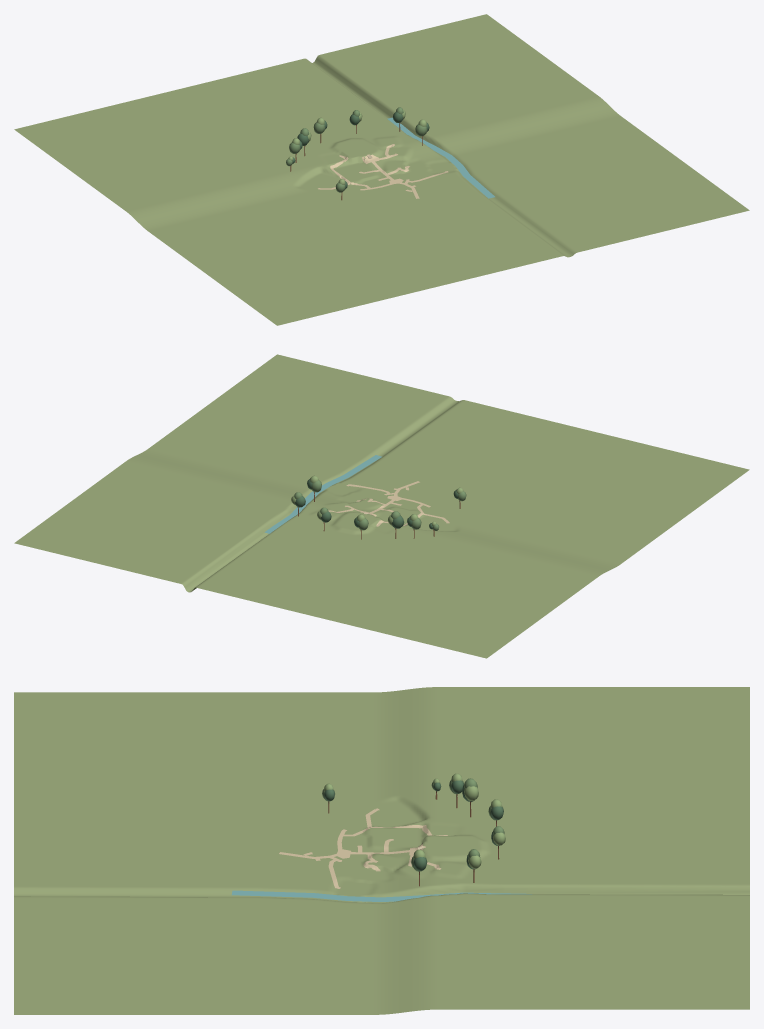
The model's file is town_environment.glb.
3 views of the same model, one above another, from view 1: azimuth 30°, elevation 25°; view 2: azimuth 150°, elevation 25°; view 3: azimuth 270°, elevation 25° (orthographic). The views are drawn at different scales.
Visible parts, largest first — view 1: Environment - Grass, Environment - Path.002, Environment - Water, Environment - Leaf; view 2: Environment - Grass, Environment - Path.002, Environment - Water, Environment - Leaf; view 3: Environment - Grass, Environment - Path.002, Environment - Water, Environment - Leaf light, Environment - Leaf dark.
Part boxes in pixels (box(x1,y1,x2,y2)): Environment - Grass: box(14, 14, 749, 325); Environment - Path.002: box(318, 144, 448, 198); Environment - Water: box(387, 117, 494, 198); Environment - Leaf: box(286, 107, 427, 192); Environment - Grass: box(14, 354, 749, 658); Environment - Path.002: box(328, 481, 449, 526); Environment - Water: box(264, 455, 381, 533); Environment - Leaf: box(294, 480, 466, 530); Environment - Grass: box(14, 687, 749, 1014); Environment - Path.002: box(279, 808, 447, 888); Environment - Water: box(231, 890, 531, 901); Environment - Leaf light: box(324, 773, 505, 868); Environment - Leaf dark: box(324, 780, 503, 870).
Bounding box in the file's own units: 112 × 7.67 × 108.
